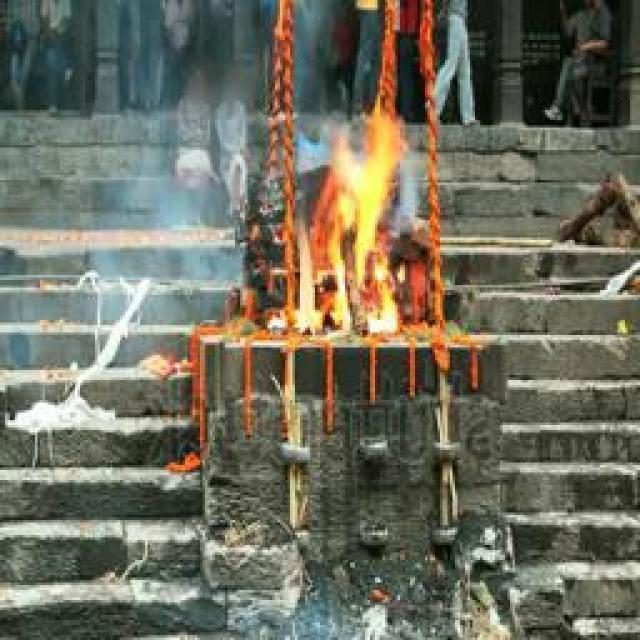Fire: (274, 109, 407, 341)
